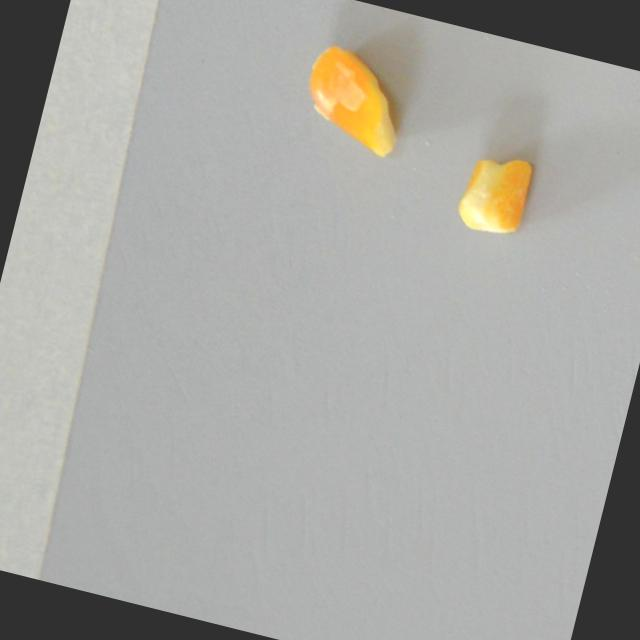pelicula: (293, 37, 416, 159), (452, 145, 536, 239)
